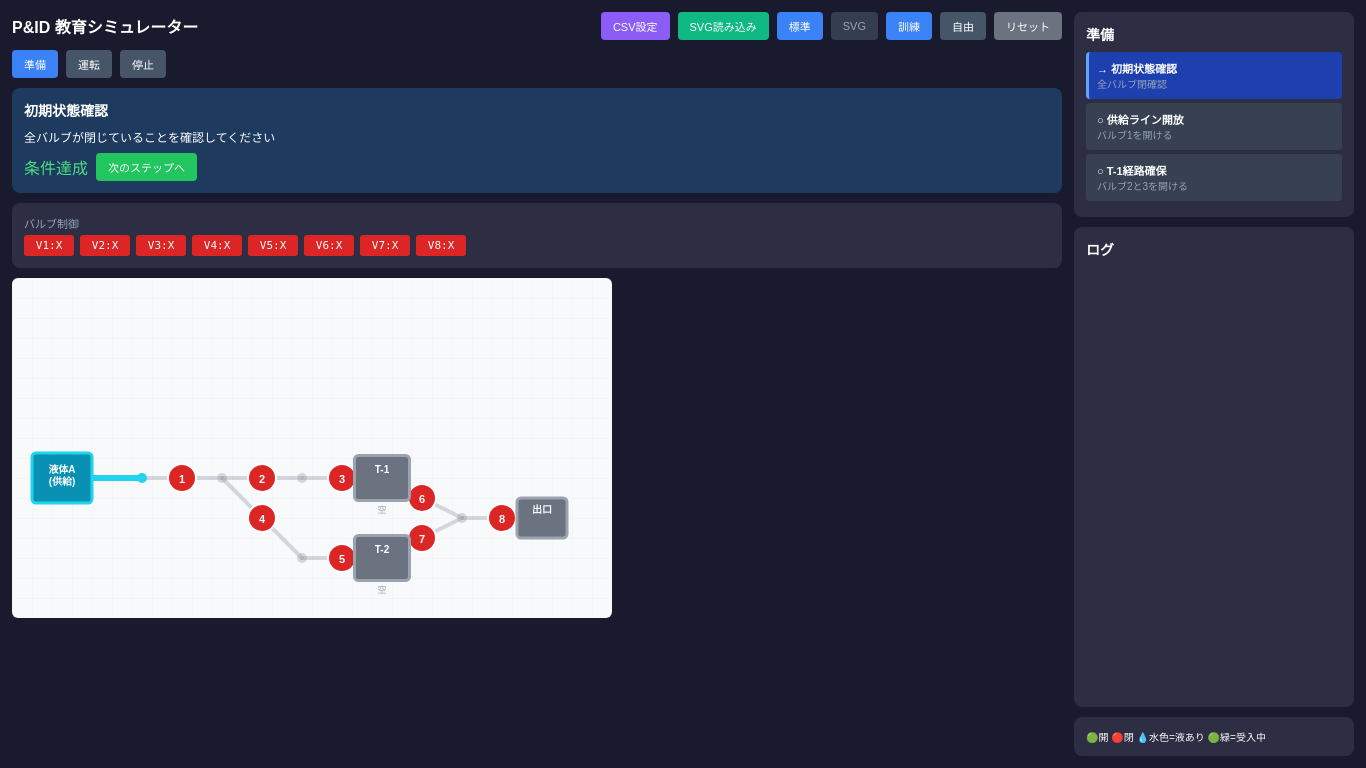
Test: PIDSimulator › モード切替 › 自由モードに切り替えるとステップ指示が非表示になる
The image size is (1366, 768).
Expected: the text "全バルブが閉じていることを確認してください" is shown, [24, 131, 275, 145]
Click the button "自由": [963, 26] box [940, 12, 986, 40]
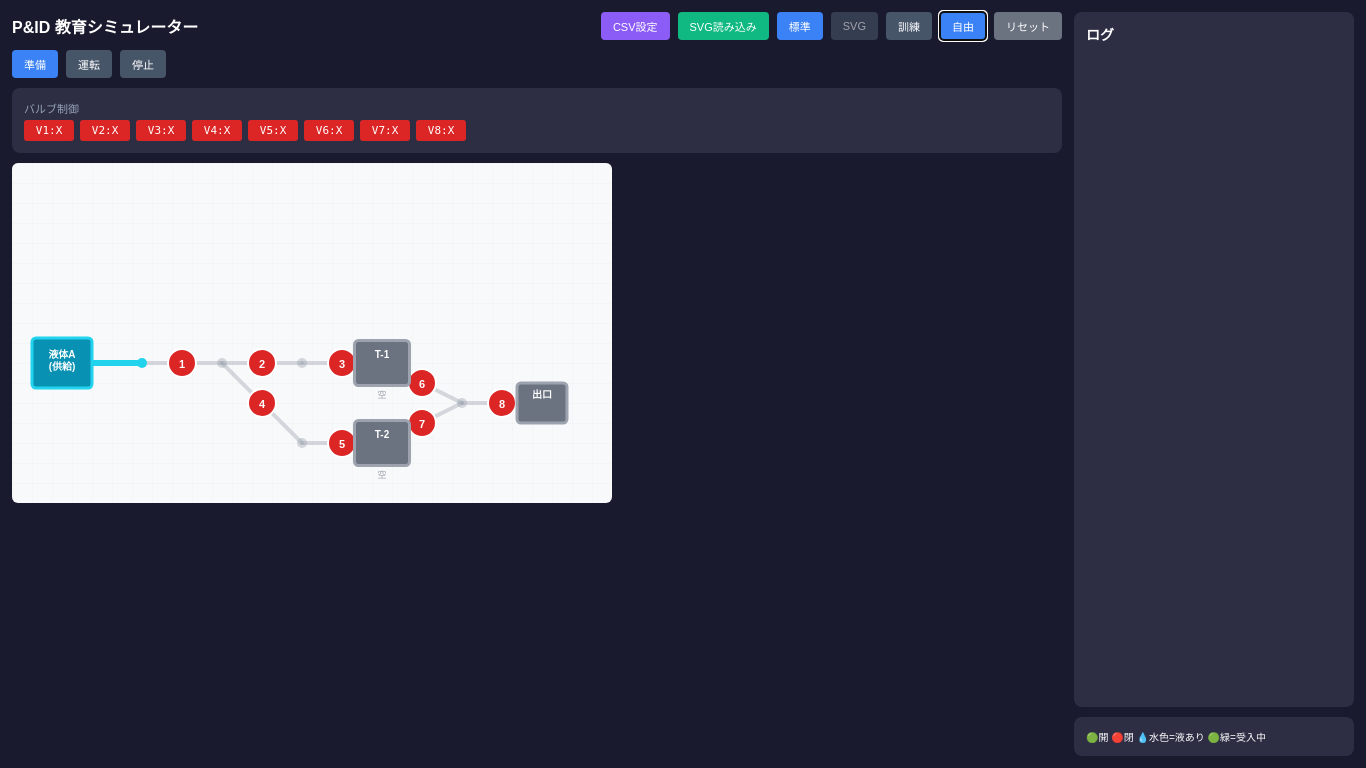
Expected: the text "全バルブが閉じていることを確認してください" is gone
